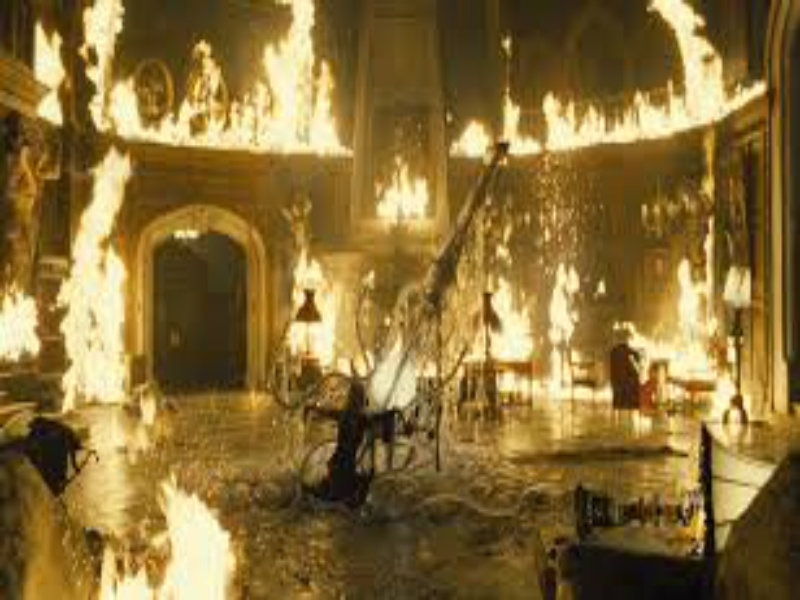fire: (83, 4, 360, 154), (58, 149, 152, 412), (123, 478, 244, 600), (280, 194, 339, 368), (548, 88, 675, 152), (661, 246, 719, 378), (537, 248, 589, 395), (482, 259, 542, 378), (646, 1, 731, 77), (450, 96, 541, 161), (377, 333, 441, 408), (375, 149, 432, 223), (32, 18, 67, 134), (1, 281, 46, 365), (684, 79, 727, 122), (716, 379, 749, 431), (729, 84, 767, 108)
